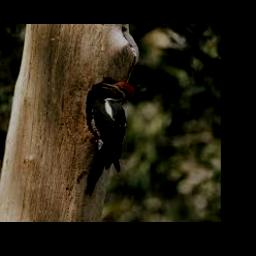Woodpecker: (85, 81, 135, 196)
